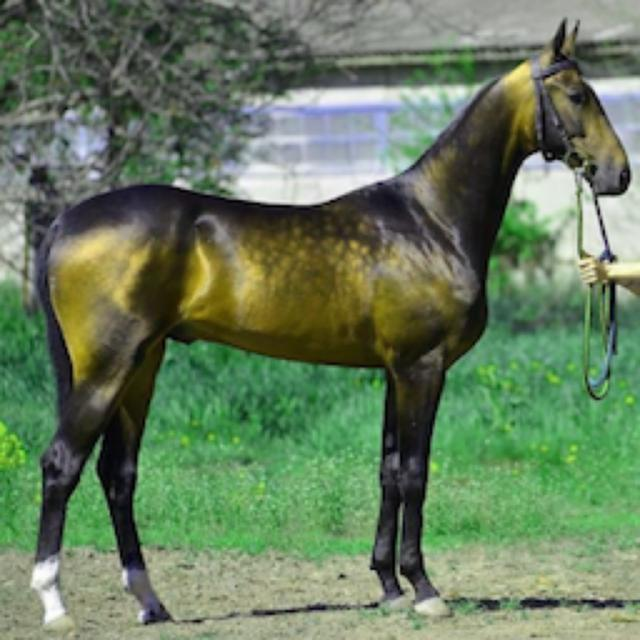Horse: (18, 15, 638, 638)
